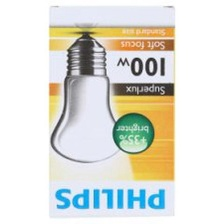book: (46, 4, 180, 220)
